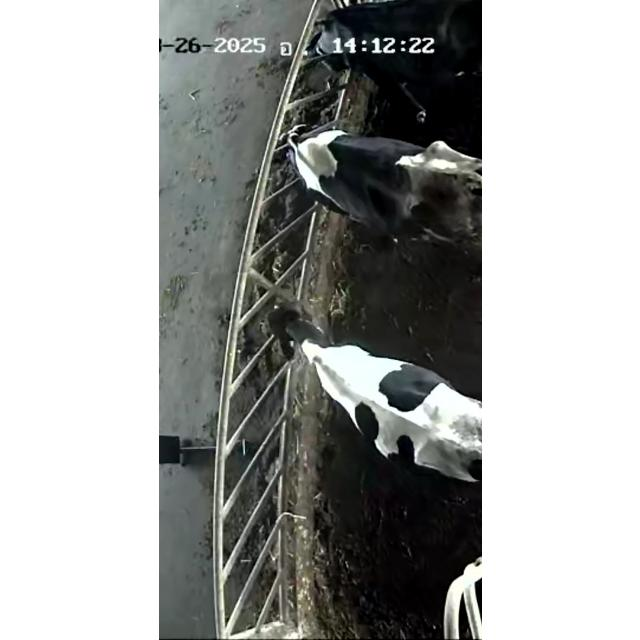eat: (230, 109, 386, 193), (261, 2, 423, 76)
